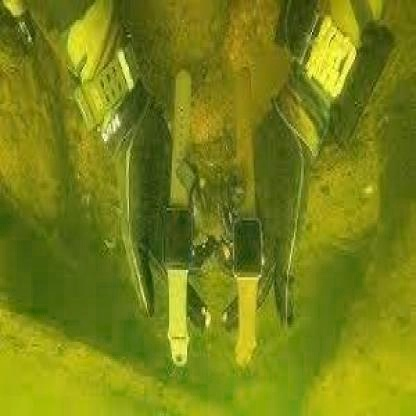electronics: (165, 69, 201, 369), (234, 69, 264, 374)
